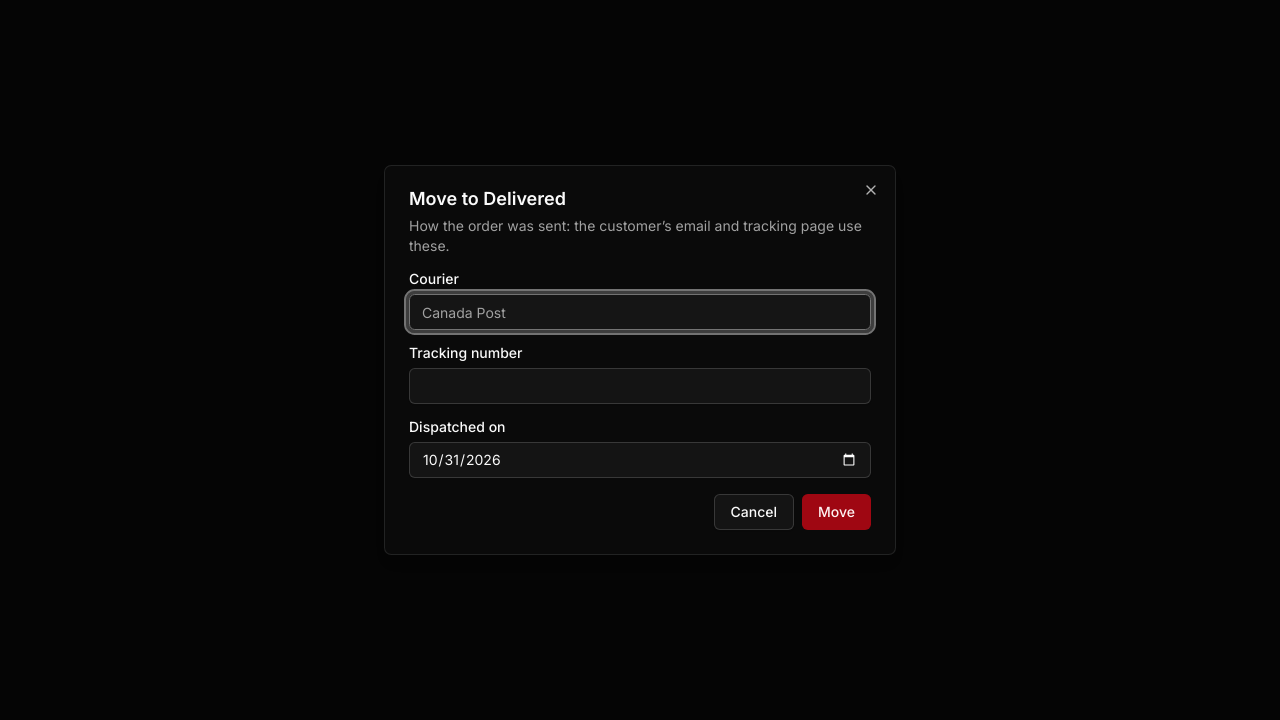
Test: StageMoveDialog › needs a courier before it asks the backend
Click the button "Move" at (836, 512), box [802,494,871,530]
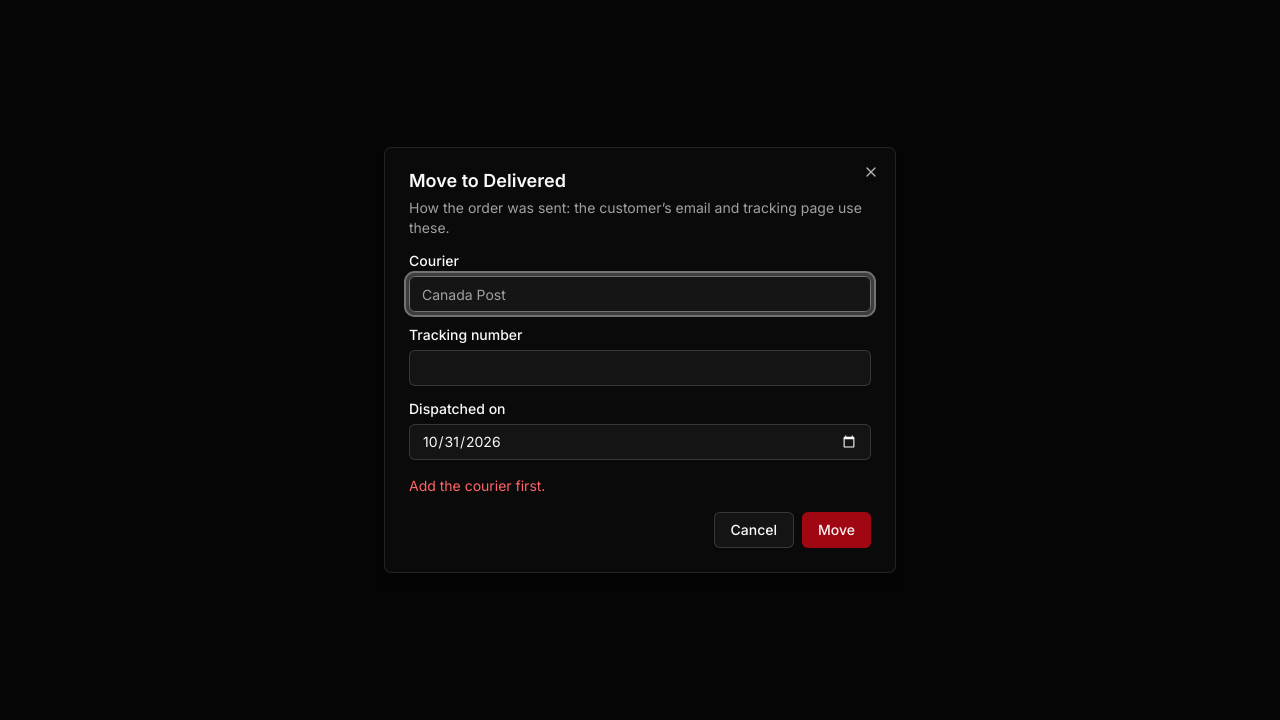
Expected: the message reads "Add the courier first.", [409,477,545,494]
